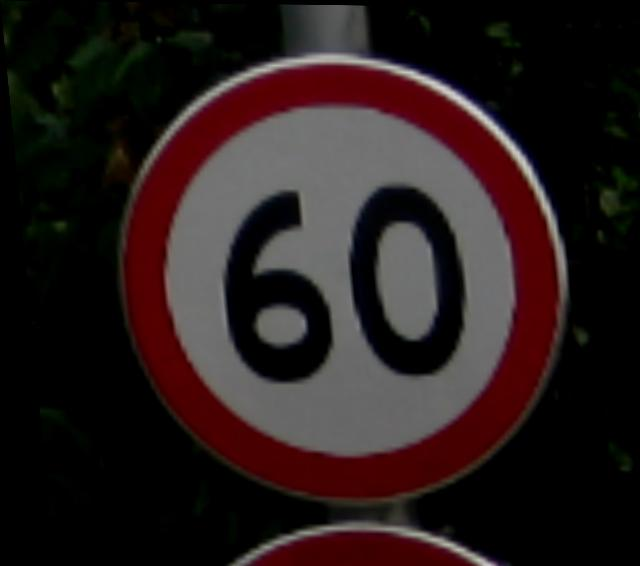limit60: (75, 38, 599, 525)
